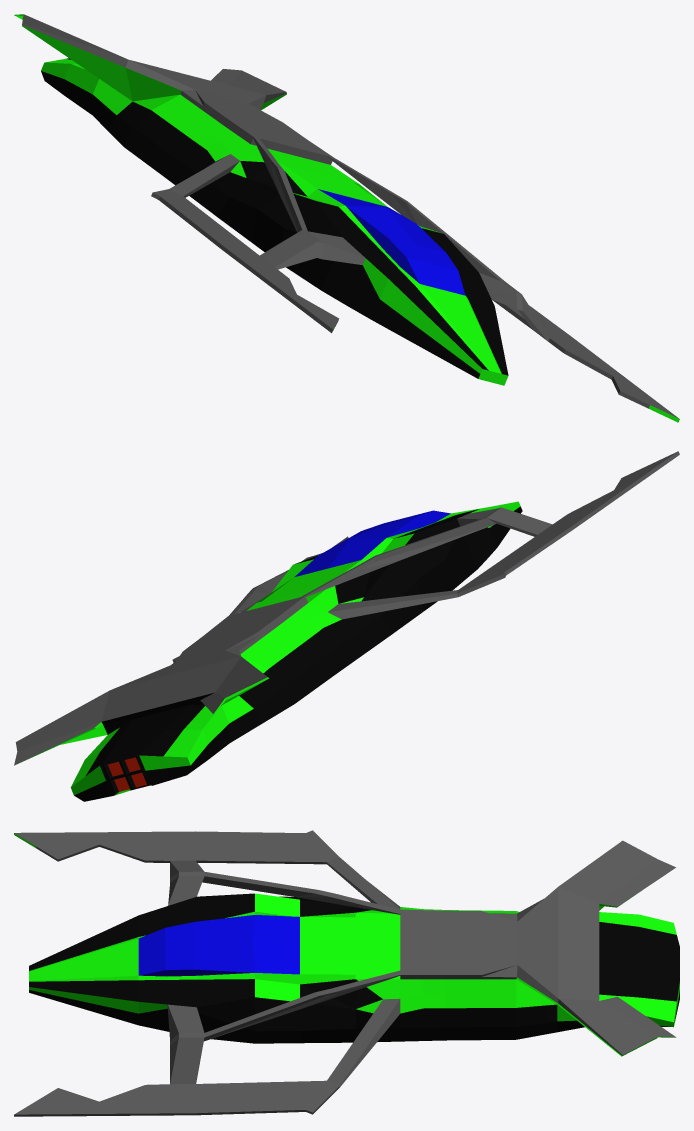
File: EagleCar.fbx
The picture shows the model from 3 angles, top to bottom: view 1: azimuth 30°, elevation 25°; view 2: azimuth 150°, elevation 25°; view 3: azimuth 270°, elevation 25°; orthographic projection. The views are drawn at different scales.
Parts seen in each view (by area): view 1: Cube; view 2: Cube; view 3: Cube.
Part boxes in pixels (box(x1,y1,x2,y2)): Cube: box(14, 14, 679, 422); Cube: box(14, 451, 679, 801); Cube: box(14, 830, 679, 1116).
Size of the model in its own units: 650 by 350 by 1304.
